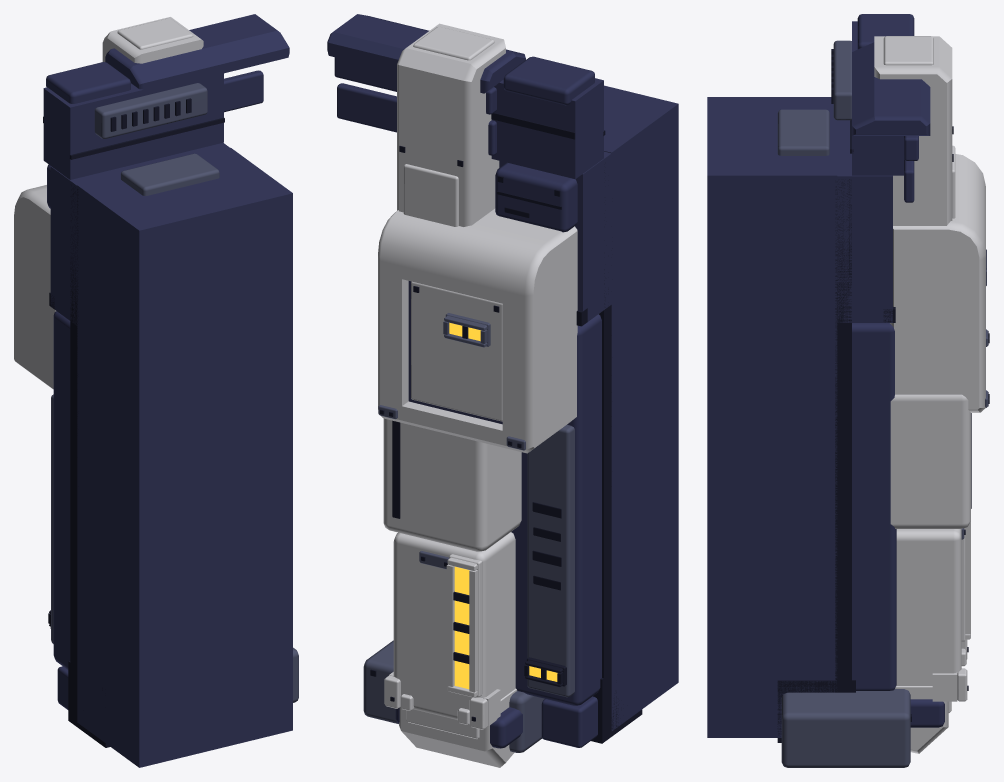
File: hull.bay.pilaster.bumper.navy.plate.w1.000.s0.k-2.1.glb
3 views of the same model, side by side, from view 1: azimuth 30°, elevation 25°; view 2: azimuth 150°, elevation 25°; view 3: azimuth 270°, elevation 25° (orthographic). The views are drawn at different scales.
Visible parts, largest first — view 1: hull.bay.pilaster.bumper.navy.plate.w1.000.s0.k-2.1; view 2: hull.bay.pilaster.bumper.navy.plate.w1.000.s0.k-2.1; view 3: hull.bay.pilaster.bumper.navy.plate.w1.000.s0.k-2.1.
Part boxes in pixels (box(x1,y1,x2,y2)): hull.bay.pilaster.bumper.navy.plate.w1.000.s0.k-2.1: box(14, 14, 298, 767); hull.bay.pilaster.bumper.navy.plate.w1.000.s0.k-2.1: box(327, 14, 678, 767); hull.bay.pilaster.bumper.navy.plate.w1.000.s0.k-2.1: box(707, 14, 989, 767).
Size of the model in its own units: 1.44 by 4.1 by 1.52.
